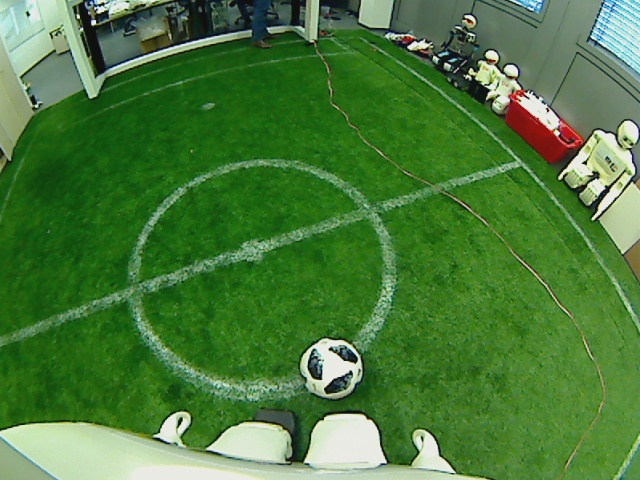ball: (298, 336, 365, 400)
